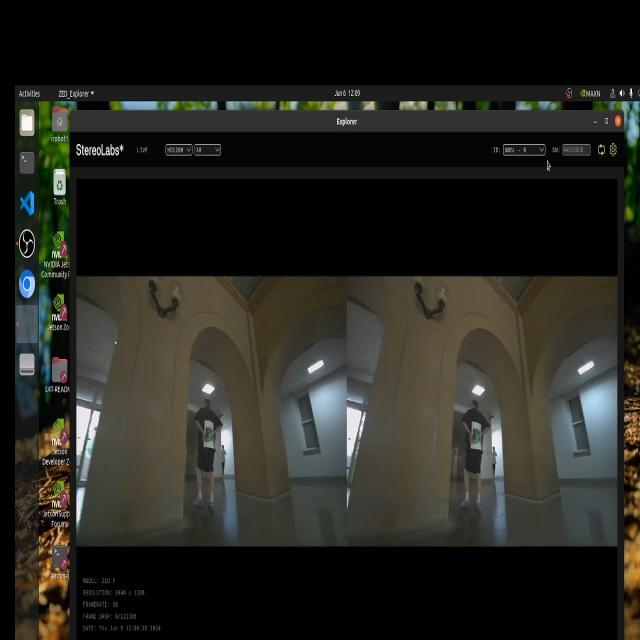green: (197, 424, 217, 446), (473, 428, 486, 447)
